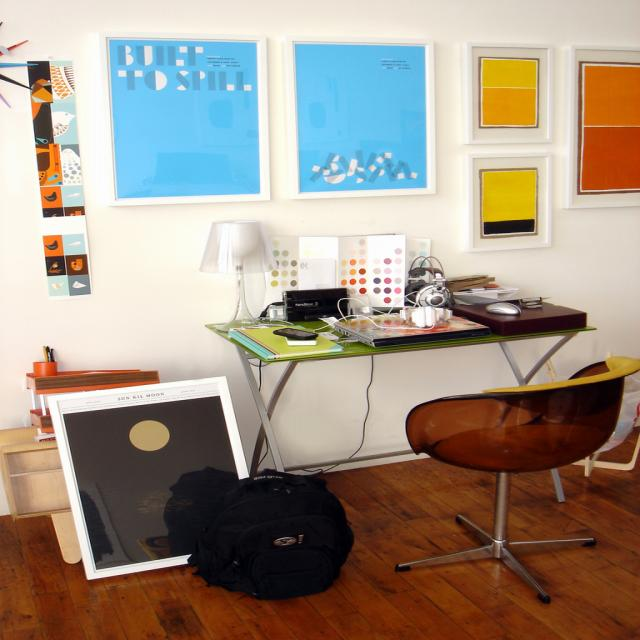chair: (394, 356, 638, 604)
desk: (204, 291, 595, 503)
mouse: (274, 327, 318, 341), (486, 302, 521, 316)
